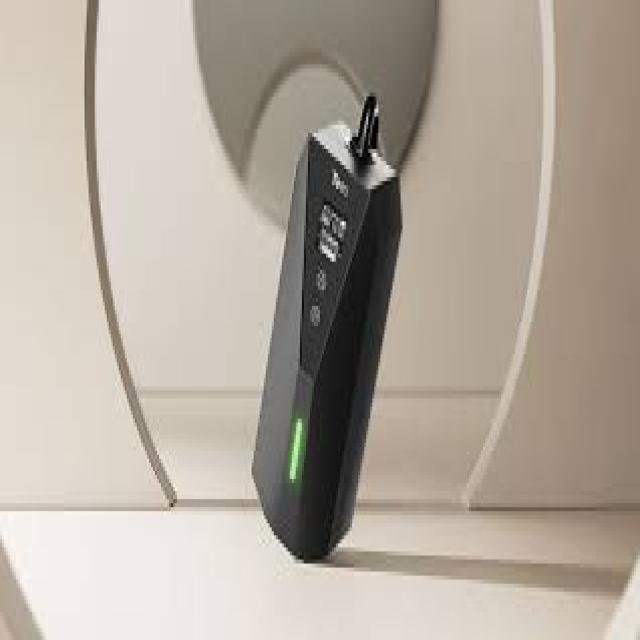portable-charger: (247, 75, 410, 572)
